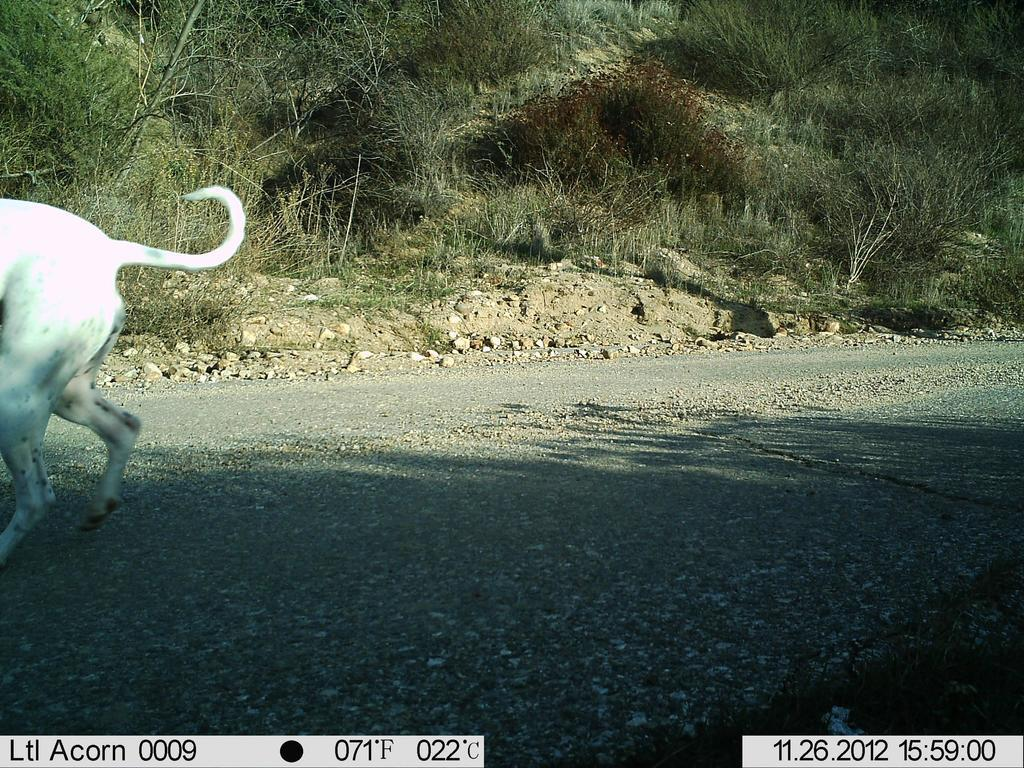dog: (3, 187, 249, 577)
